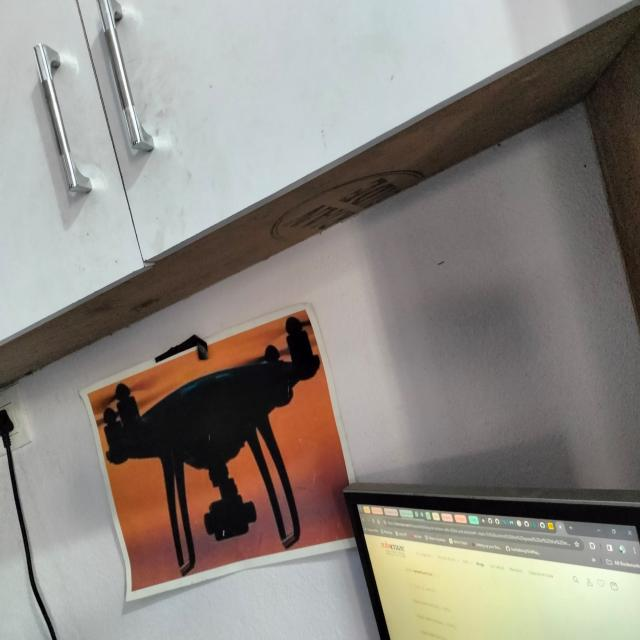drone: (88, 308, 316, 561)
